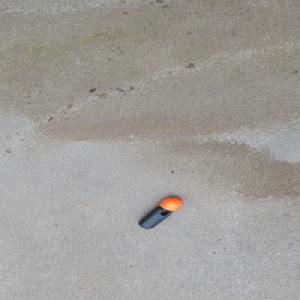PlasticPart: (137, 196, 183, 229)
